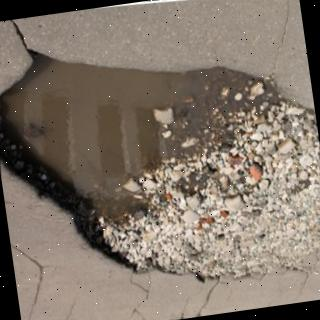pothole: (0, 49, 320, 279)
